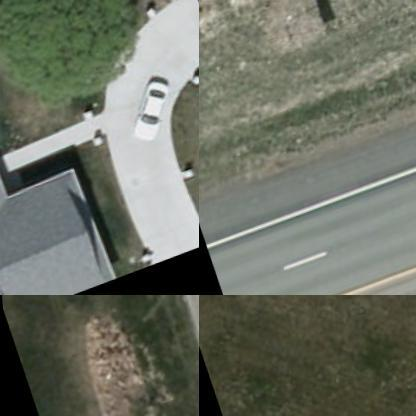car: (114, 73, 186, 160)
